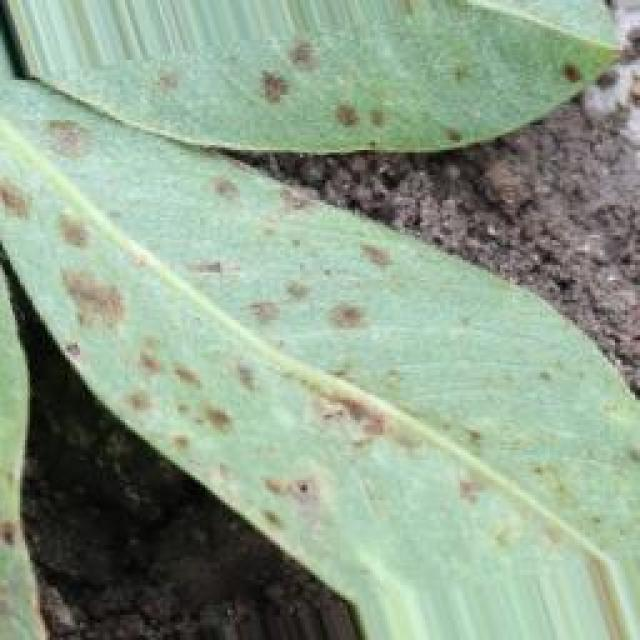Whitefly: (0, 37, 599, 608)
